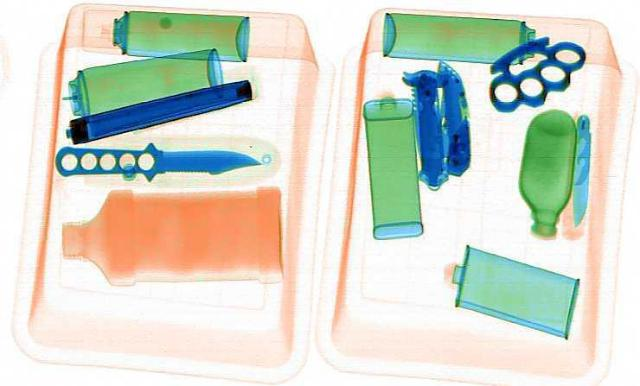Knife: (447, 27, 613, 118), (402, 69, 450, 182), (54, 146, 262, 172), (432, 58, 473, 175), (566, 113, 592, 221)
